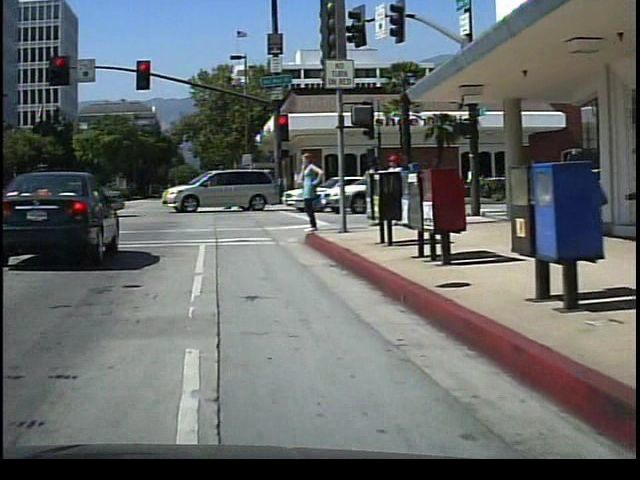person: (294, 147, 326, 236), (382, 149, 411, 229), (355, 149, 379, 221)
